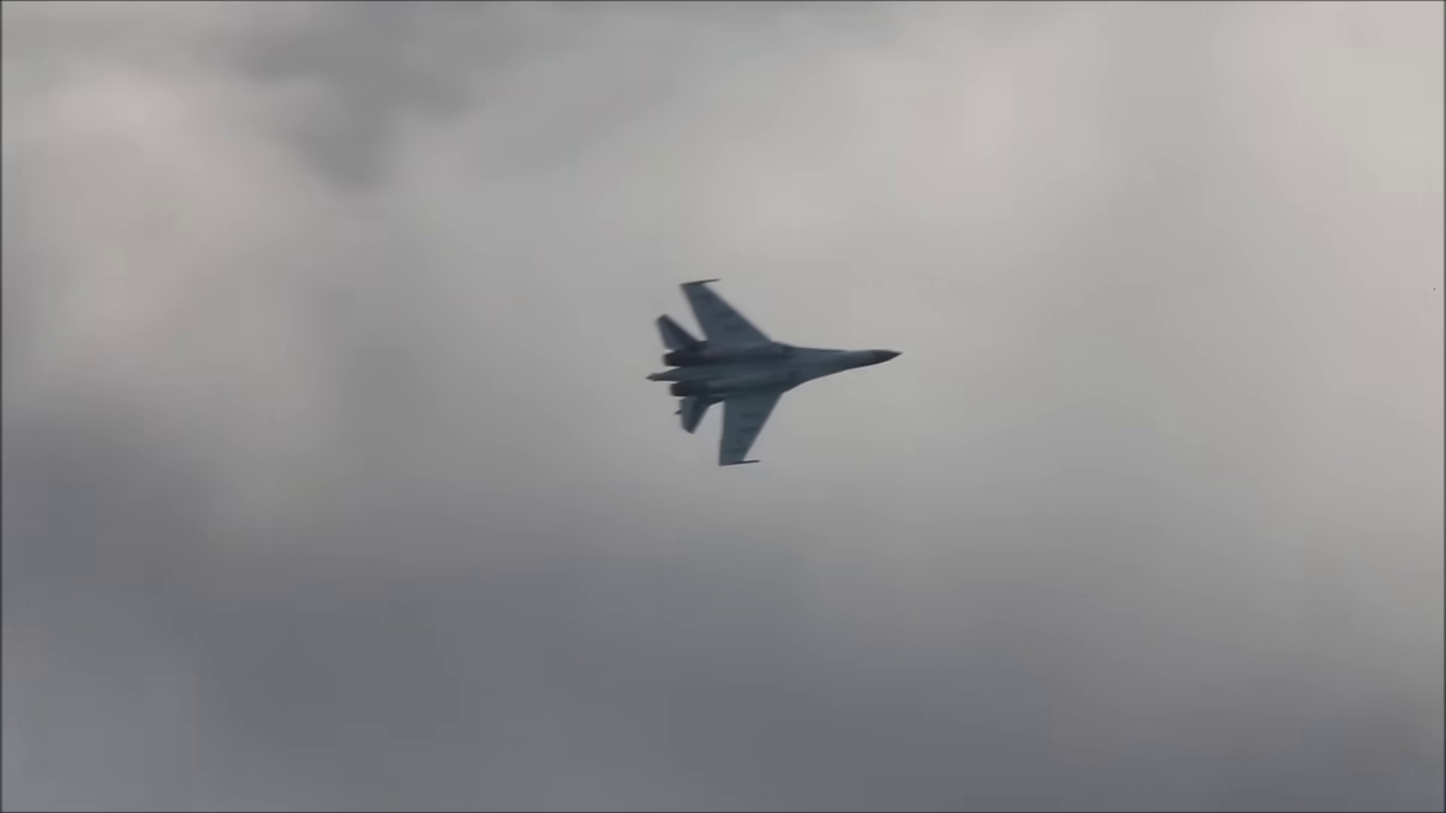Su35: (644, 264, 913, 466)
